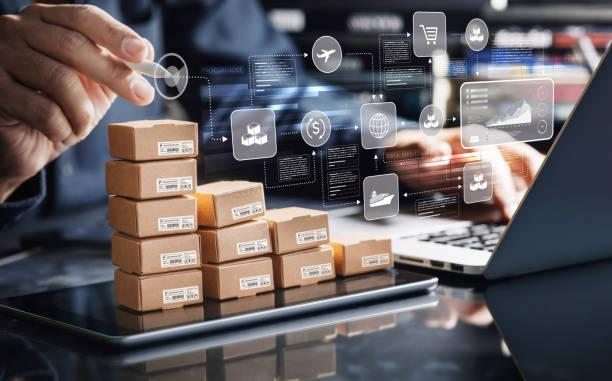Non_Gorille: (102, 1, 493, 355)
